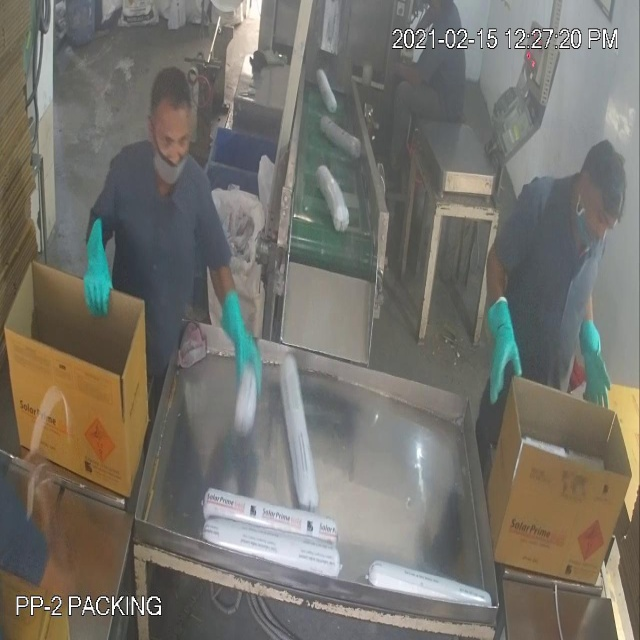Guantes: (214, 276, 269, 400), (62, 209, 117, 323), (480, 286, 528, 407), (571, 318, 618, 412)
Sin_guantes: (388, 52, 436, 98)
